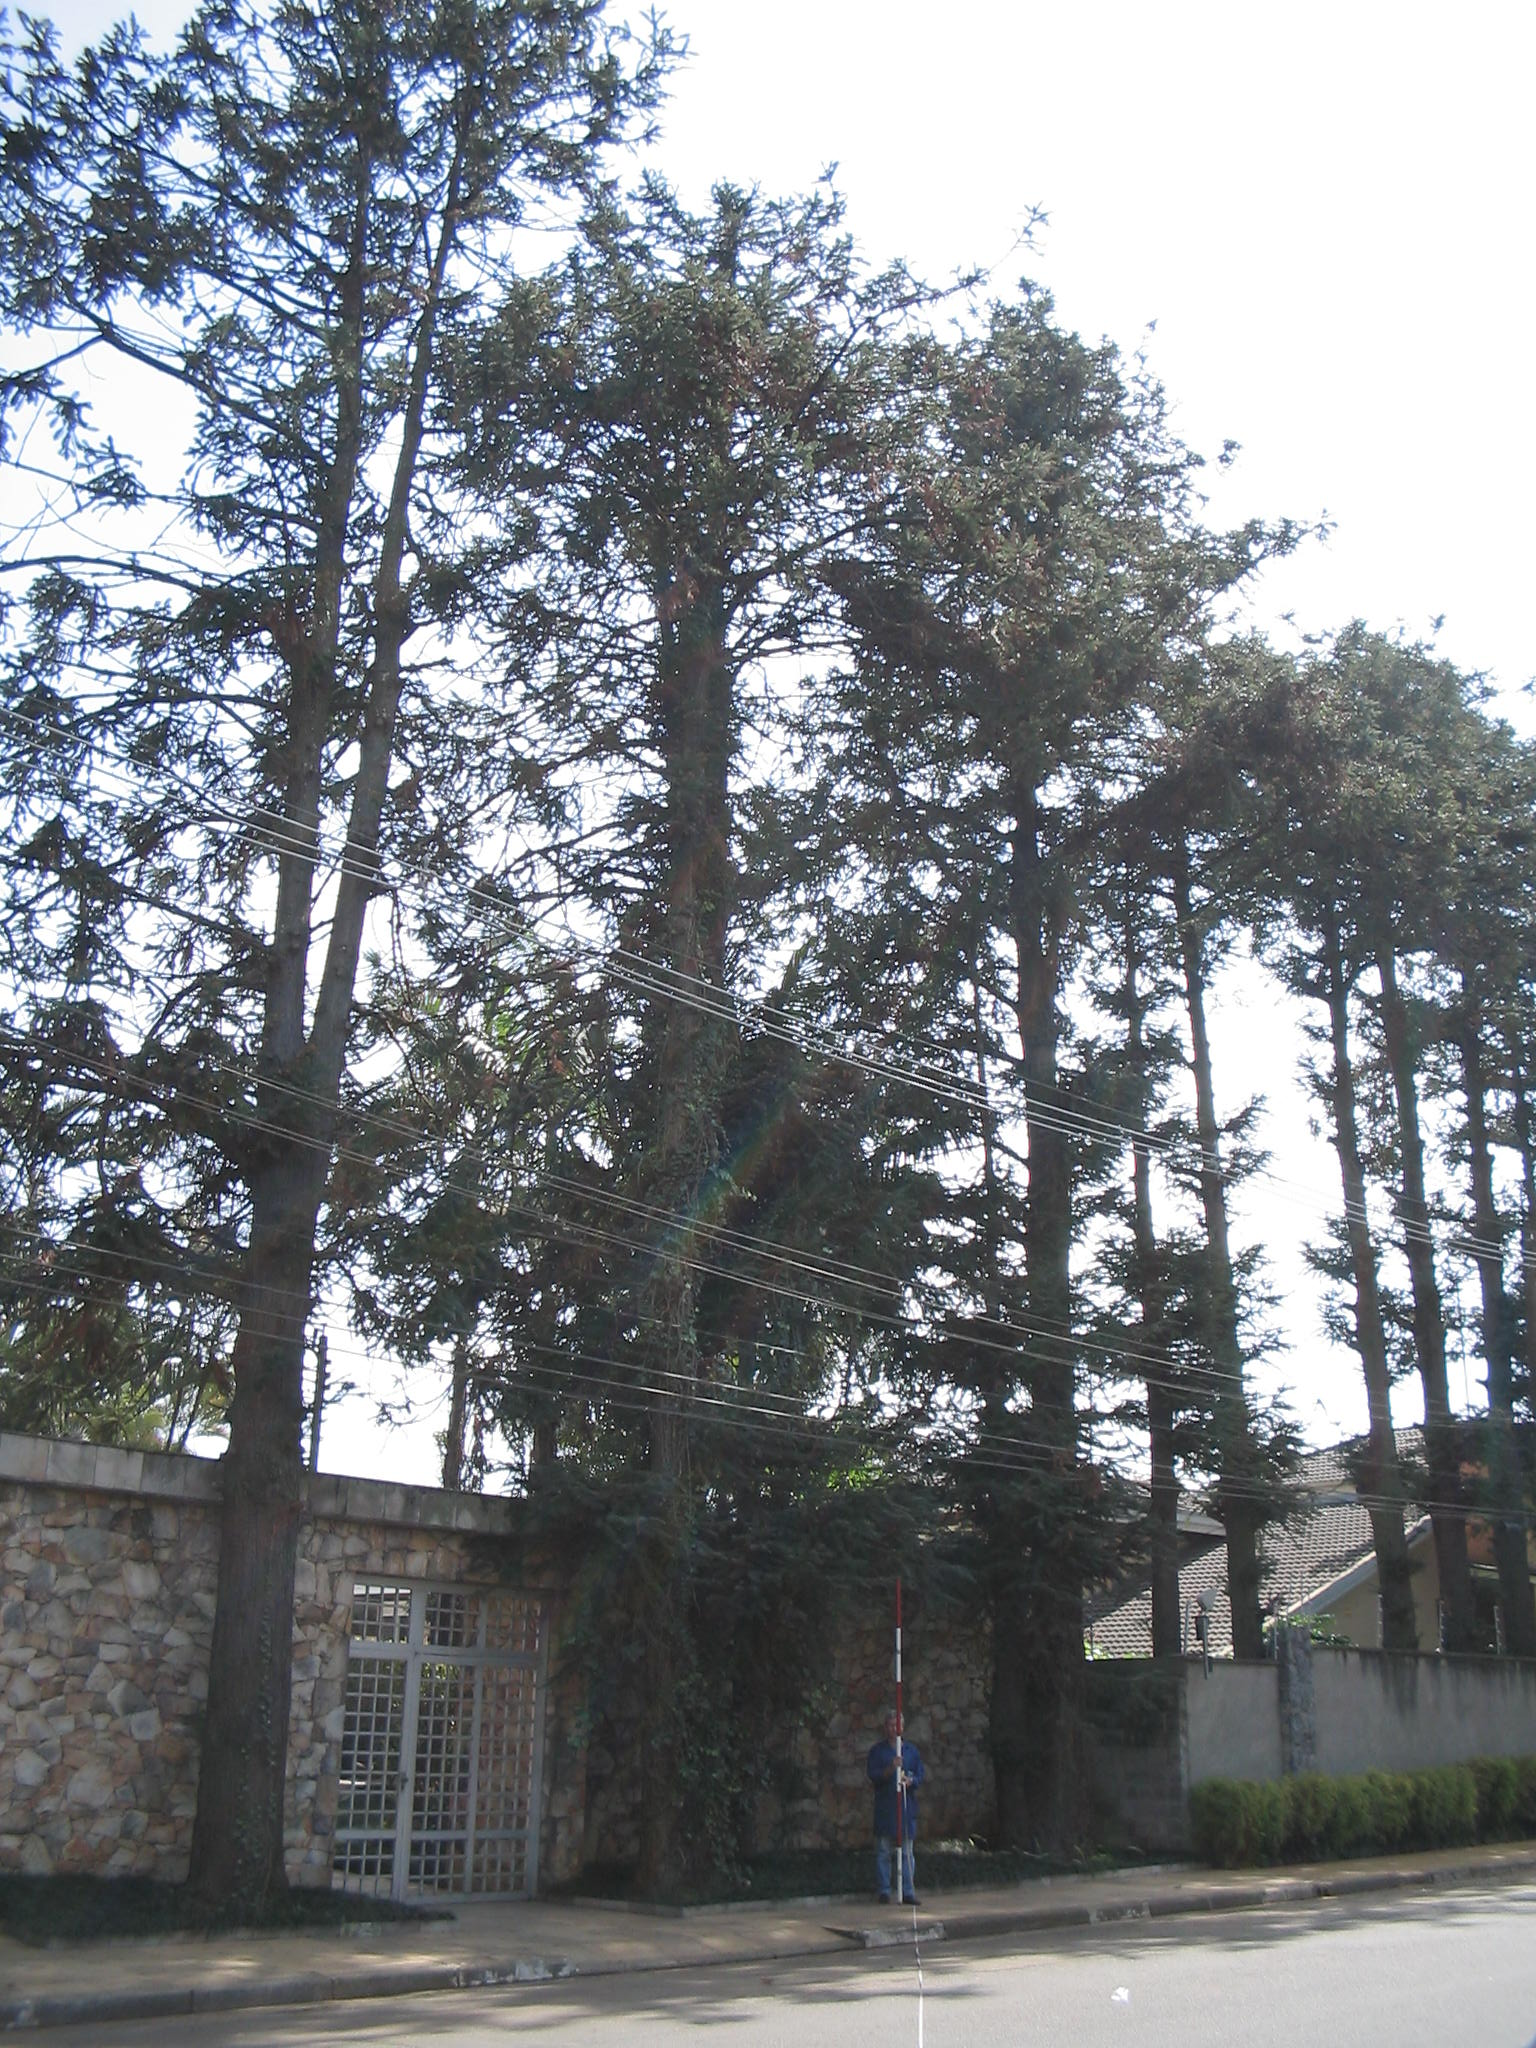crown: (11, 8, 641, 1405), (762, 269, 1347, 1592), (444, 202, 1025, 1513)
stem: (166, 1313, 336, 1924), (586, 1516, 744, 1917), (970, 1582, 1092, 1861)
stick: (879, 1574, 928, 1904)
tree: (3, 5, 644, 1924), (440, 203, 1029, 1919), (762, 276, 1354, 1863)
